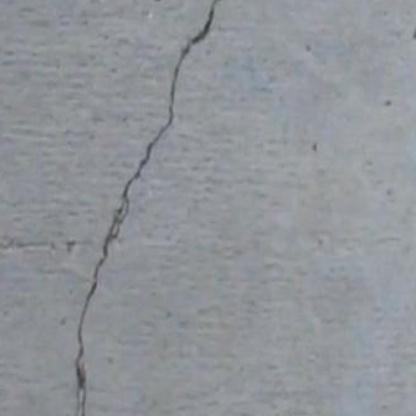Cracks: (68, 0, 237, 416)
